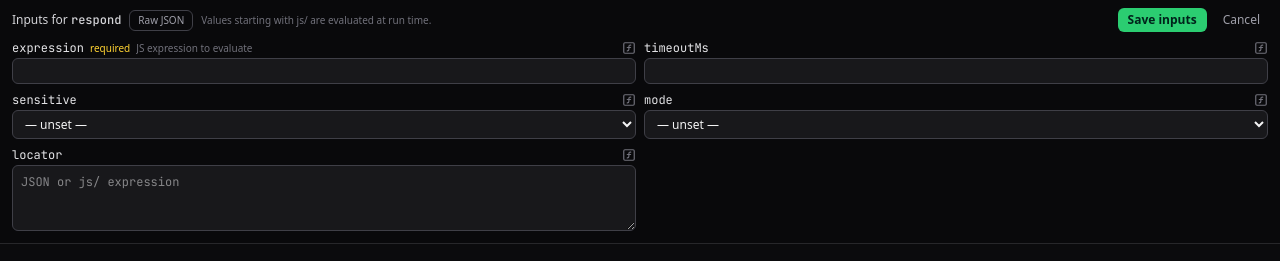
Test: upstream picker › clicking a field entry writes the expression into the field's value
Click the button titled "Insert a value from an upstream step" in the row of "JS expression to evaluate".
click(629, 48)  # box [622,41,636,55]
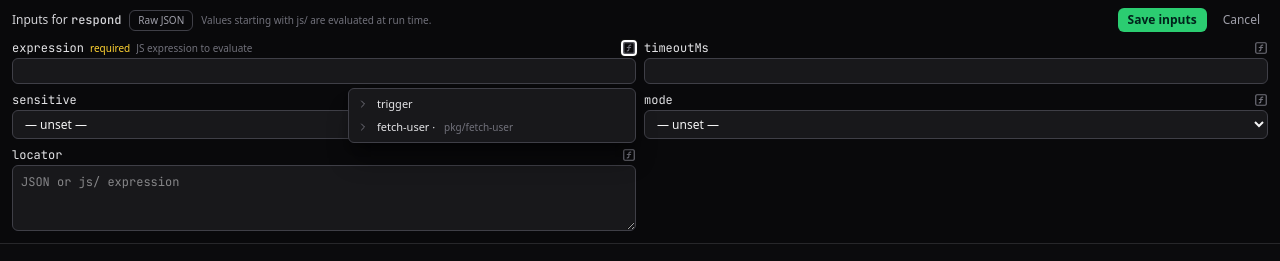
Click the button named "Expand fetch-user".
click(363, 127)  # box [353,117,373,137]
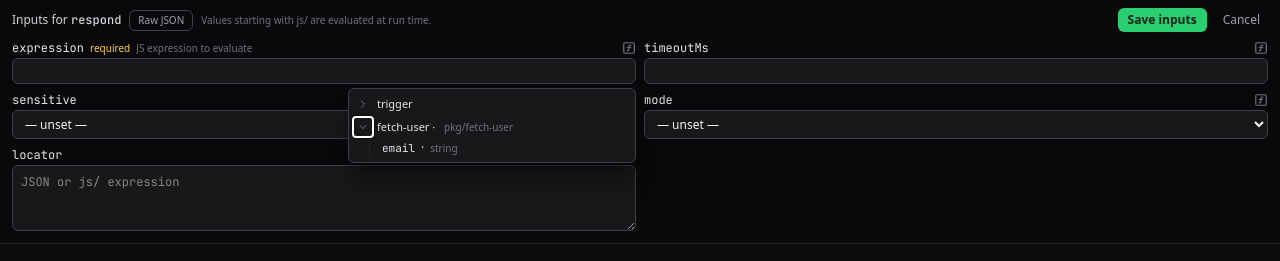
Click the button "email · string".
click(504, 148)  # box [378,138,631,158]
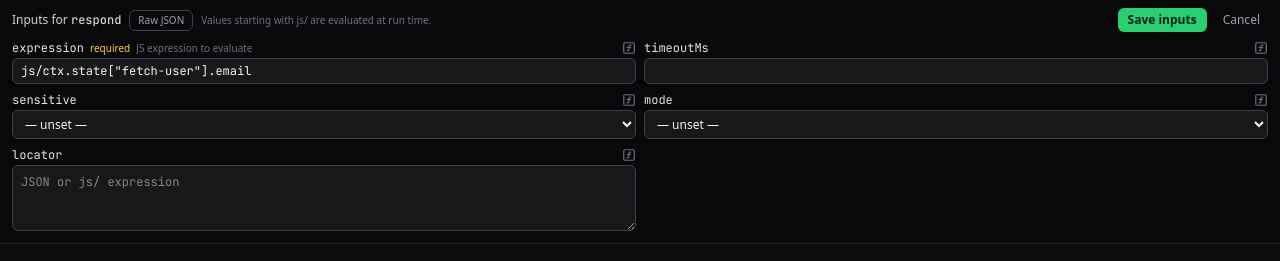
Expected: the field labelled "expression required JS expression to evaluate" holds "js/ctx.state[\"fetch-user\"].email", [12,58,636,84]
